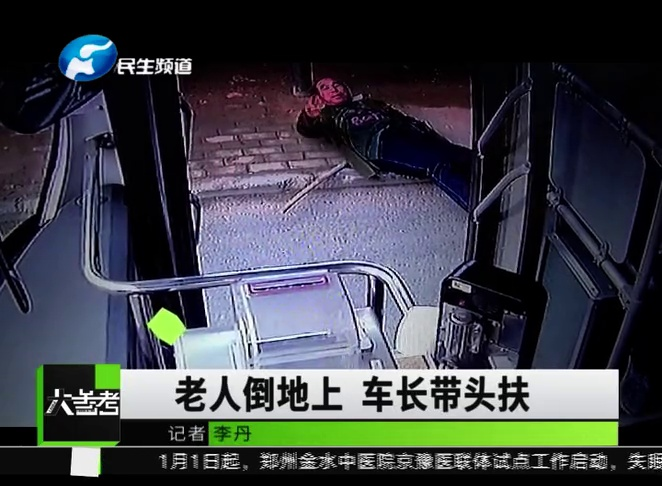fall: (297, 74, 481, 205)
